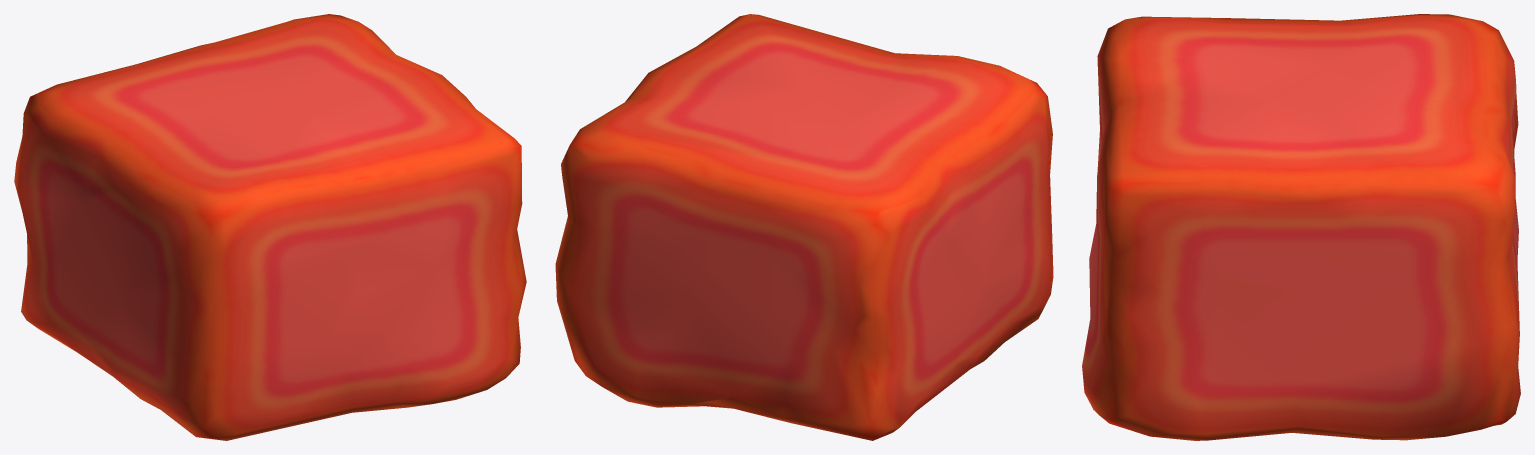
Rendered from blocks_yogan.fbx.
3 renders of one model, left to right at view 1: azimuth 30°, elevation 25°; view 2: azimuth 150°, elevation 25°; view 3: azimuth 270°, elevation 25°, orthographic. The views are drawn at different scales.
Visible parts, largest first — view 1: yogan; view 2: yogan; view 3: yogan.
Boxes of the visible parts, left/top/right/bottom form: yogan: left=14, top=14, right=526, bottom=440; yogan: left=555, top=14, right=1053, bottom=440; yogan: left=1082, top=14, right=1520, bottom=440.
Bounding box in the file's own units: 84.5 × 59.68 × 84.83.
